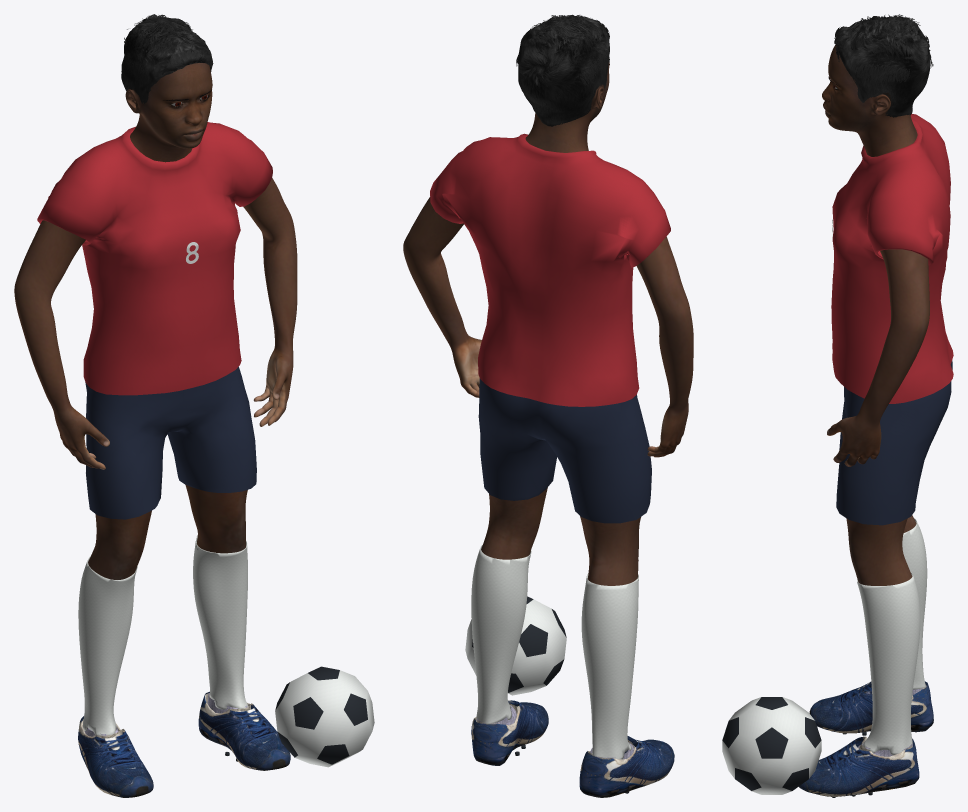
The model's file is professional-soccer-standing.glb.
3 renders of one model, left to right at view 1: azimuth 30°, elevation 25°; view 2: azimuth 150°, elevation 25°; view 3: azimuth 270°, elevation 25°, orthographic. The views are drawn at different scales.
Parts seen in each view (by area): view 1: male_casualsuit04, Micah | anatomical body, shoes06, Soccer ball | pentagon and hexagon panels, Athletic sock | l, Athletic sock | r, short01; view 2: male_casualsuit04, Micah | anatomical body, Athletic sock | r, short01, Athletic sock | l, shoes06, Soccer ball | pentagon and hexagon panels; view 3: male_casualsuit04, Micah | anatomical body, Athletic sock | l, shoes06, Soccer ball | pentagon and hexagon panels, short01, Athletic sock | r.
Boxes of the visible parts, bbox=[...] form: male_casualsuit04: bbox=[37, 122, 272, 519]; Micah | anatomical body: bbox=[14, 63, 297, 728]; shoes06: bbox=[78, 691, 290, 797]; Soccer ball | pentagon and hexagon panels: bbox=[275, 666, 374, 767]; Athletic sock | l: bbox=[193, 535, 248, 709]; Athletic sock | r: bbox=[78, 556, 137, 735]; short01: bbox=[121, 14, 213, 103]; male_casualsuit04: bbox=[430, 133, 670, 523]; Micah | anatomical body: bbox=[403, 62, 693, 750]; Athletic sock | r: bbox=[581, 574, 638, 759]; short01: bbox=[516, 14, 609, 126]; Athletic sock | l: bbox=[471, 544, 531, 724]; shoes06: bbox=[471, 700, 674, 797]; Soccer ball | pentagon and hexagon panels: bbox=[465, 596, 566, 695]; male_casualsuit04: bbox=[831, 114, 953, 525]; Micah | anatomical body: bbox=[822, 45, 929, 752]; Athletic sock | l: bbox=[857, 572, 920, 755]; shoes06: bbox=[799, 681, 933, 796]; Soccer ball | pentagon and hexagon panels: bbox=[722, 697, 821, 794]; short01: bbox=[834, 14, 933, 117]; Athletic sock | r: bbox=[902, 518, 927, 689].
Bounding box in the file's own units: 0.7278 × 1.84 × 0.5196.
13 materials, 13 textured.
